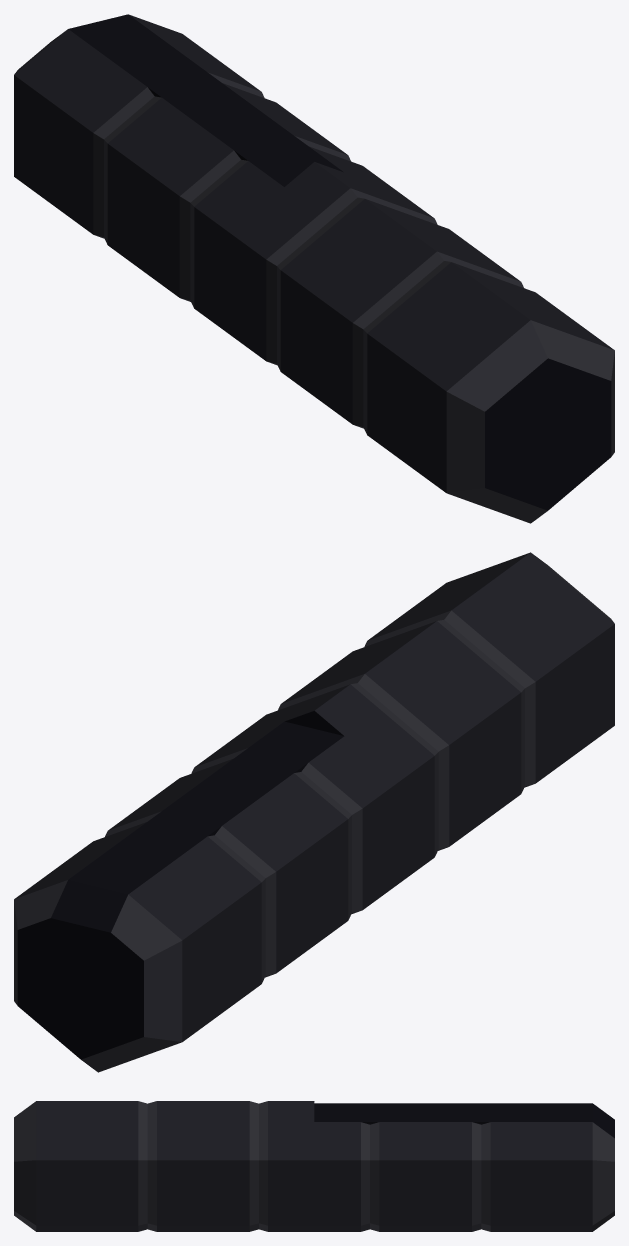
Rendered from MW1_PumpHandle_12ga_01.fbx.
3 renders of one model, top to bottom at view 1: azimuth 30°, elevation 25°; view 2: azimuth 150°, elevation 25°; view 3: azimuth 270°, elevation 25°, orthographic. The views are drawn at different scales.
Visible parts, largest first — view 1: PumpHandle_12ga_01; view 2: PumpHandle_12ga_01; view 3: PumpHandle_12ga_01.
Boxes of the visible parts, left/top/right/bottom form: PumpHandle_12ga_01: left=14, top=14, right=614, bottom=523; PumpHandle_12ga_01: left=14, top=552, right=614, bottom=1072; PumpHandle_12ga_01: left=14, top=1101, right=614, bottom=1231.
Size of the model in its own units: 3.78 by 4.37 by 18.18.
